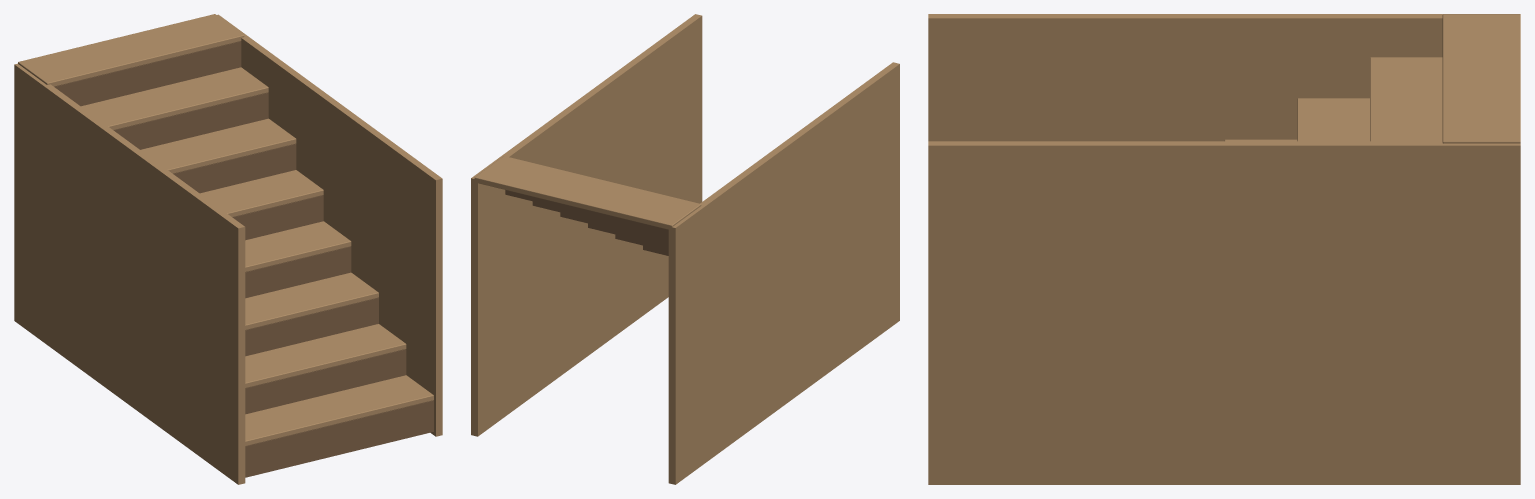
The model's file is stair-run-8riser.glb.
3 views of the same model, side by side, from view 1: azimuth 30°, elevation 25°; view 2: azimuth 150°, elevation 25°; view 3: azimuth 270°, elevation 25° (orthographic). The views are drawn at different scales.
Visible parts, largest first — view 1: Stringer_-0.58, Stringer_0.58, Tread_7, Riser_0, Tread_0, Tread_6, Tread_1, Riser_7, Riser_1, Tread_5, Tread_2, Riser_6 (+6 smaller); view 2: Stringer_-0.58, Stringer_0.58, Tread_7, Riser_7, Riser_6, Riser_5; view 3: Stringer_0.58, Stringer_-0.58, Tread_7, Tread_6, Tread_5.
Boxes of the visible parts, x1=… form: Stringer_-0.58: x1=14, y1=63, x2=245, y2=484; Stringer_0.58: x1=217, y1=14, x2=442, y2=436; Tread_7: x1=18, y1=14, x2=244, y2=86; Riser_0: x1=245, y1=400, x2=433, y2=477; Tread_0: x1=245, y1=375, x2=433, y2=446; Tread_6: x1=81, y1=67, x2=268, y2=130; Tread_1: x1=245, y1=324, x2=406, y2=388; Riser_7: x1=54, y1=41, x2=241, y2=106; Riser_1: x1=245, y1=349, x2=406, y2=414; Tread_5: x1=141, y1=118, x2=296, y2=173; Tread_2: x1=245, y1=272, x2=378, y2=330; Riser_6: x1=114, y1=92, x2=268, y2=149; Stringer_-0.58: x1=668, y1=62, x2=899, y2=484; Stringer_0.58: x1=471, y1=14, x2=702, y2=436; Tread_7: x1=474, y1=156, x2=701, y2=229; Riser_7: x1=505, y1=190, x2=668, y2=234; Riser_6: x1=532, y1=201, x2=668, y2=238; Riser_5: x1=560, y1=212, x2=668, y2=242; Stringer_0.58: x1=928, y1=141, x2=1520, y2=484; Stringer_-0.58: x1=928, y1=14, x2=1520, y2=141; Tread_7: x1=1442, y1=14, x2=1520, y2=143; Tread_6: x1=1370, y1=57, x2=1442, y2=141; Tread_5: x1=1297, y1=98, x2=1369, y2=141.
Size of the model in its own units: 1.2 by 1.45 by 2.28.
